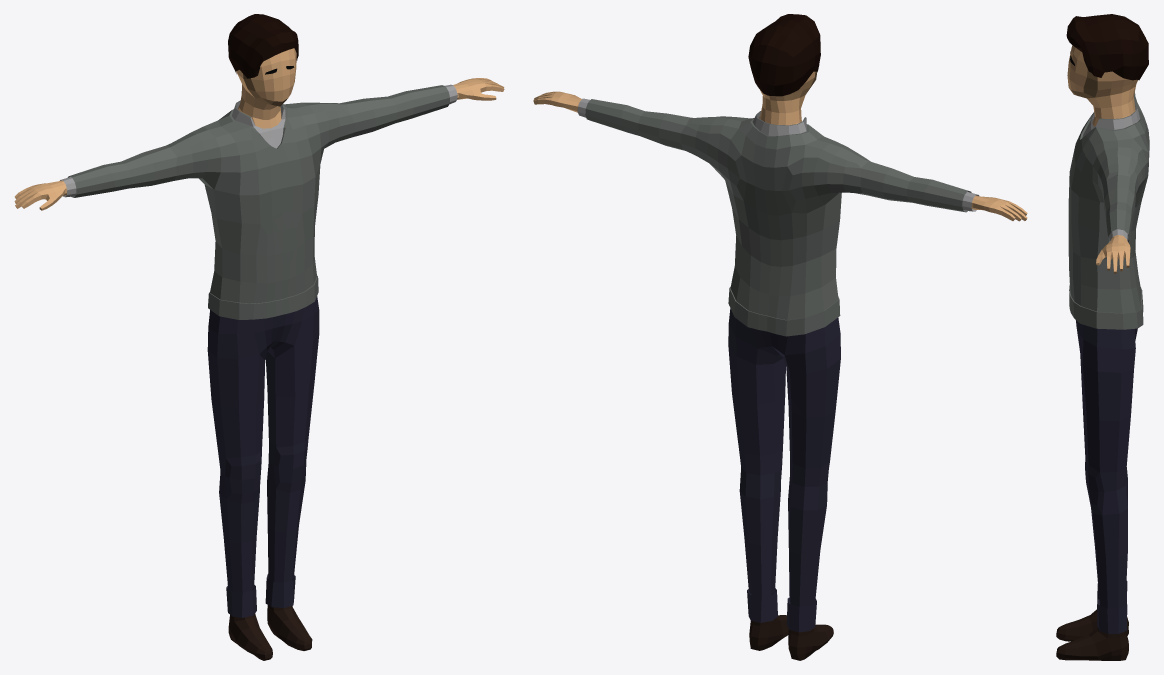
Rendered from ManCasual3new.fbx.
3 views of the same model, side by side, from view 1: azimuth 30°, elevation 25°; view 2: azimuth 150°, elevation 25°; view 3: azimuth 270°, elevation 25° (orthographic).
Visible parts, largest first — view 1: ManCasual3; view 2: ManCasual3; view 3: ManCasual3.
Part boxes in pixels (x1,y1,x2,y2): ManCasual3: (14, 14, 504, 660); ManCasual3: (533, 14, 1027, 660); ManCasual3: (1056, 14, 1149, 660).
Bounding box in the file's own units: 155 × 188 × 25.15.
1 material, 1 textured.
